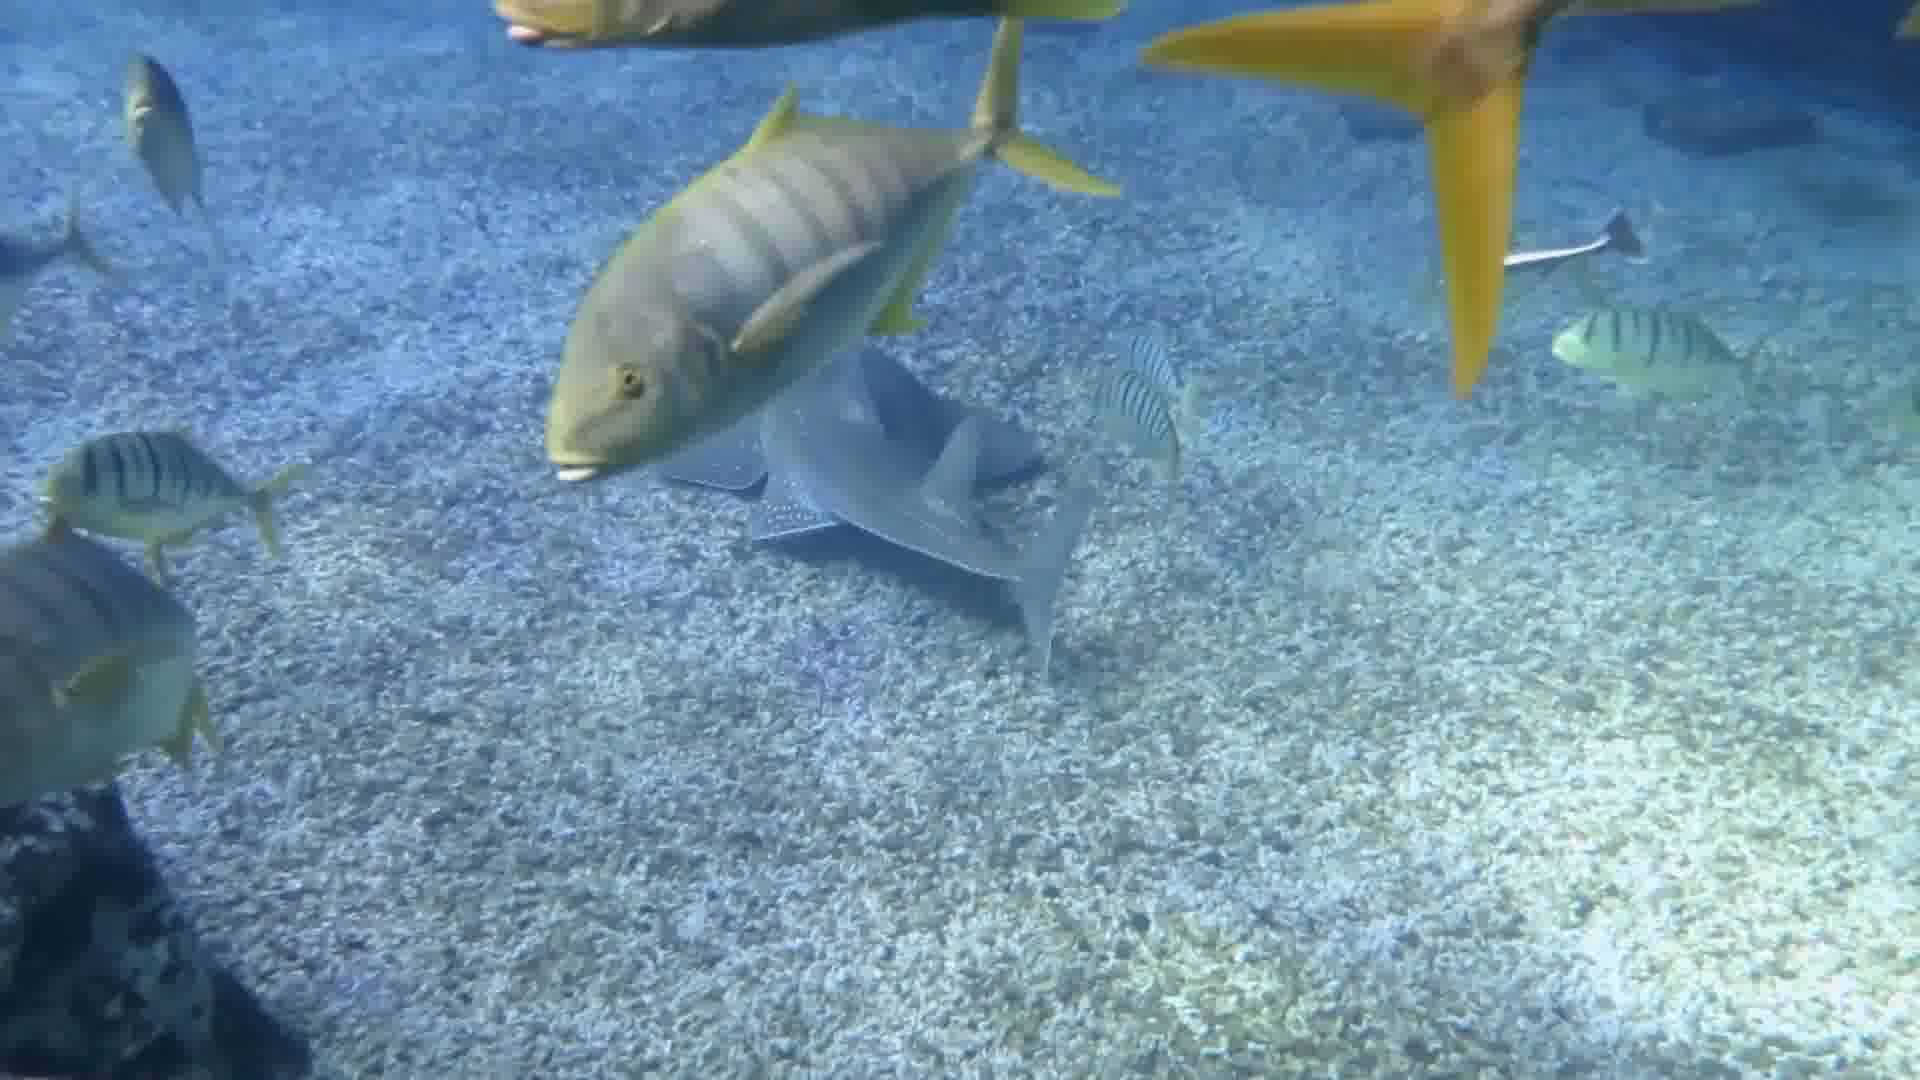Rhychobatus djiddensis: (767, 345, 1097, 624)
